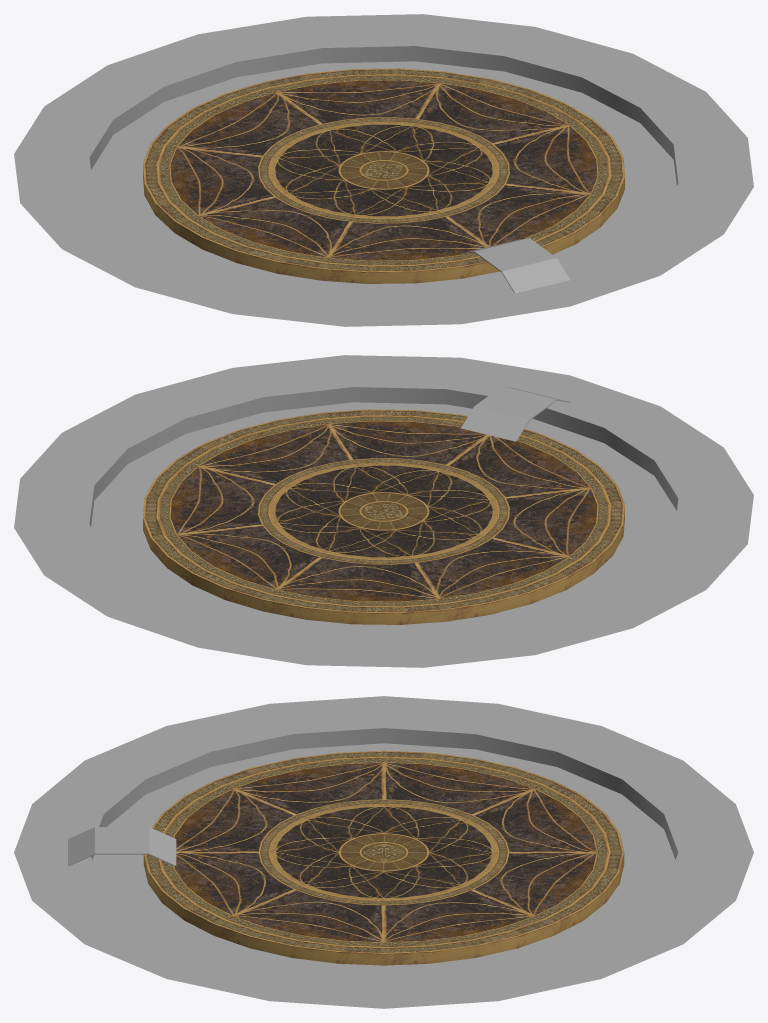
File: BossFloorCombined.fbx
The picture shows the model from 3 angles, top to bottom: view 1: azimuth 30°, elevation 25°; view 2: azimuth 150°, elevation 25°; view 3: azimuth 270°, elevation 25°; orthographic projection.
Visible parts, largest first — view 1: Boss_Floor, Boss_OuterFloor, Boss_Ichor, BossBridge; view 2: Boss_Floor, Boss_OuterFloor, Boss_Ichor, BossBridge; view 3: Boss_Floor, Boss_OuterFloor, Boss_Ichor, BossBridge.
Boxes of the visible parts, box(x1,y1,x2,y2) form: Boss_Floor: box(143, 68, 624, 283); Boss_OuterFloor: box(14, 14, 753, 326); Boss_Ichor: box(91, 61, 676, 294); BossBridge: box(461, 238, 569, 293); Boss_Floor: box(143, 409, 624, 624); Boss_OuterFloor: box(14, 355, 753, 667); Boss_Ichor: box(91, 402, 676, 635); BossBridge: box(461, 386, 569, 441); Boss_Floor: box(143, 750, 624, 965); Boss_OuterFloor: box(14, 696, 753, 1008); Boss_Ichor: box(92, 743, 675, 976); BossBridge: box(68, 827, 176, 865).
Size of the model in its own units: 5577 by 227 by 5577.
